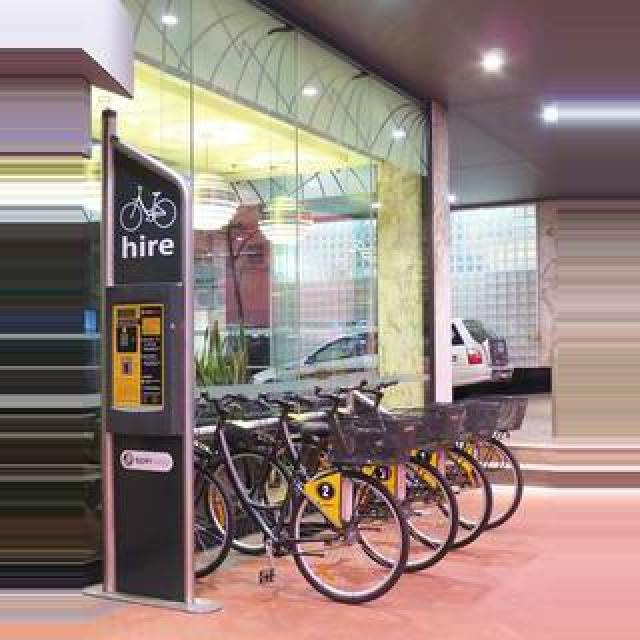Bus-Bike: (290, 320, 516, 400)
Person: (192, 394, 416, 602), (258, 376, 462, 574)
